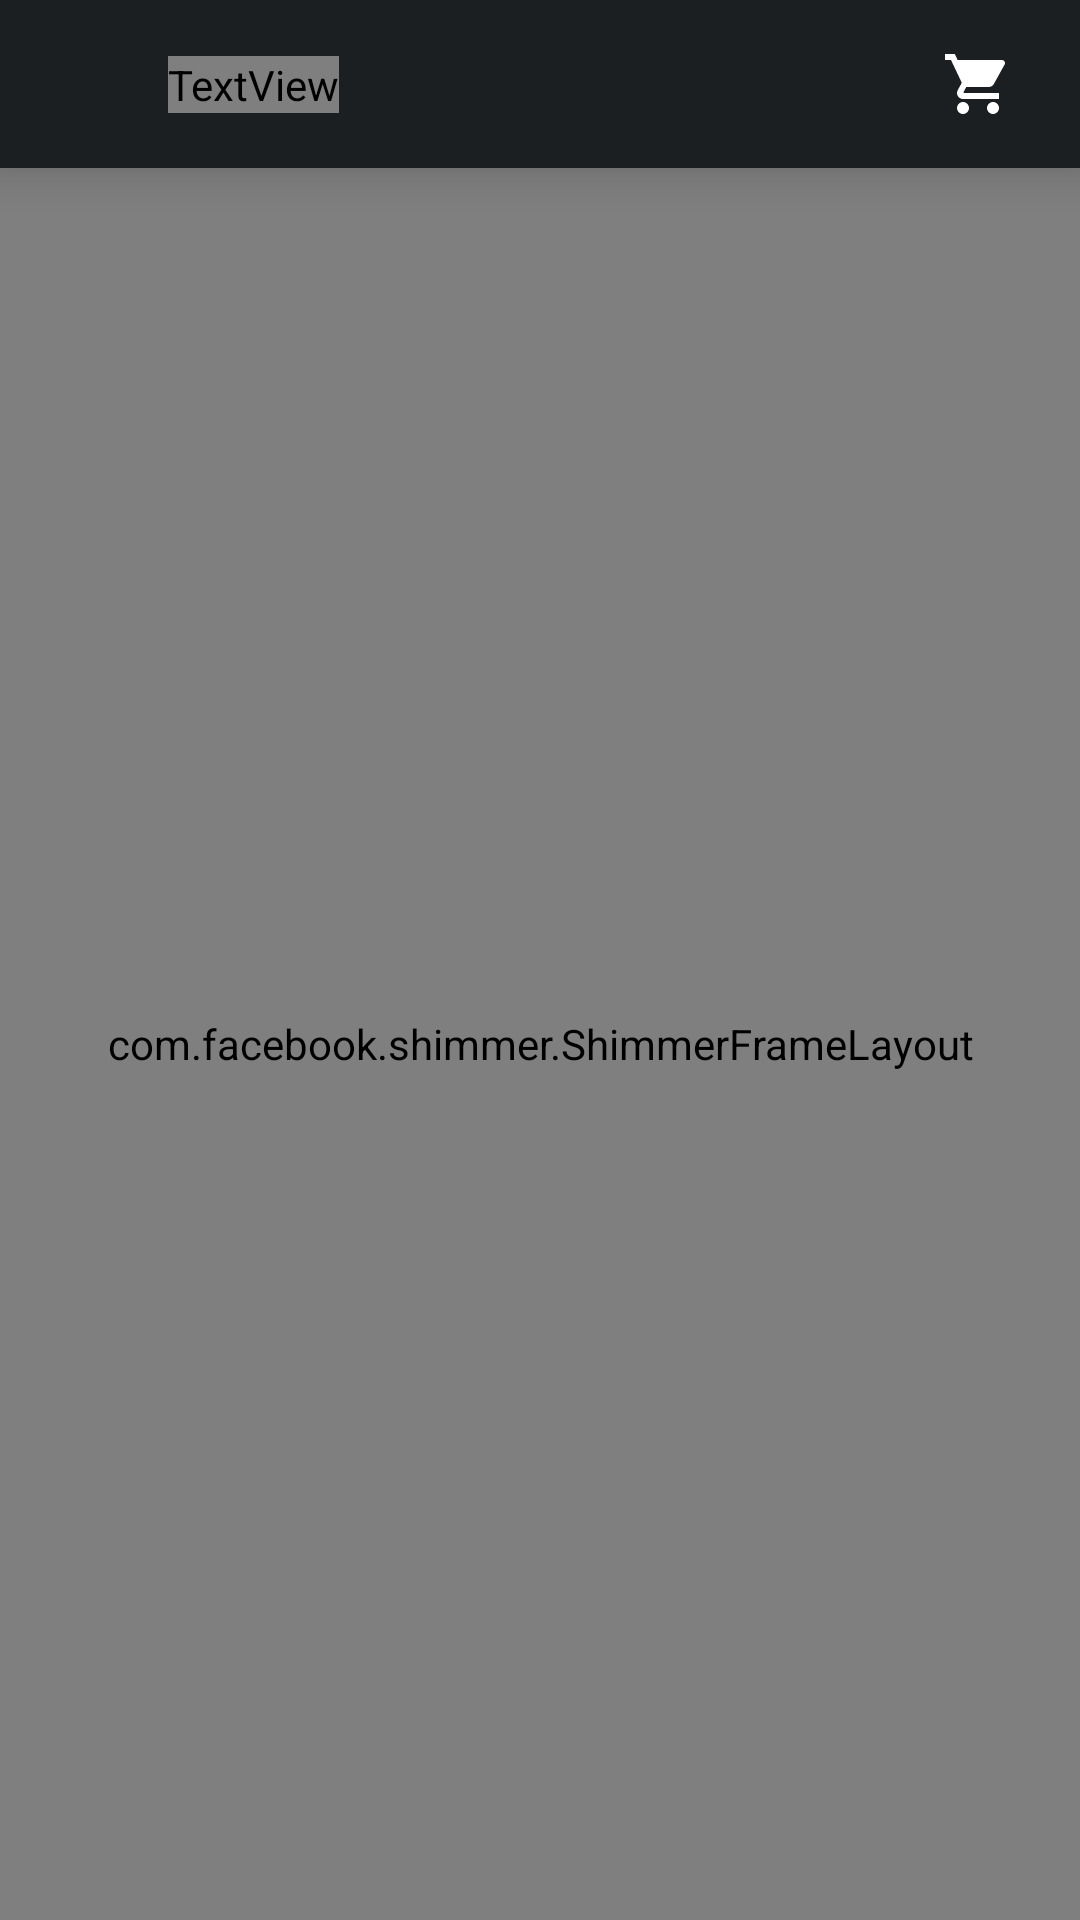

Icon click points for this 1080w x 1920h phone screenshot, format (x=x, y=y):
shopping cart: (x=975, y=84)
